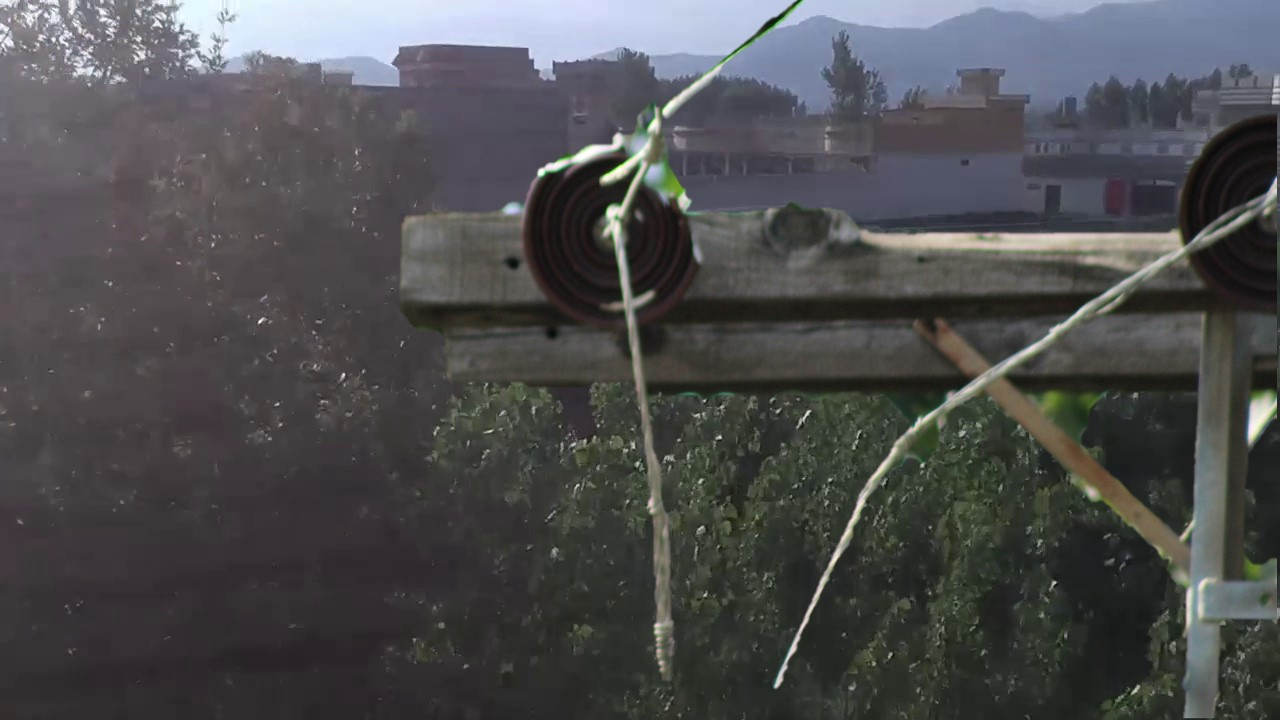defect_disc: (519, 133, 708, 338)
